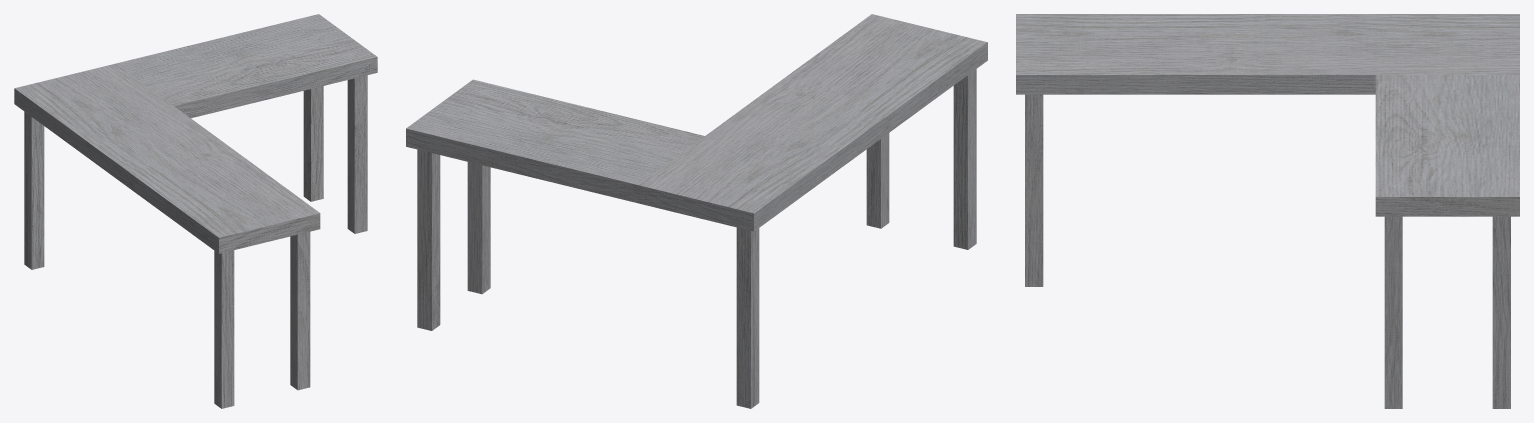
Rendered from table_L.glb.
3 renders of one model, left to right at view 1: azimuth 30°, elevation 25°; view 2: azimuth 150°, elevation 25°; view 3: azimuth 270°, elevation 25°, orthographic. The views are drawn at different scales.
Visible parts, largest first — view 1: Desk; view 2: Desk; view 3: Desk.
Boxes of the visible parts, x1,y1,x2,y2 form: Desk: (14, 14, 377, 408); Desk: (406, 14, 987, 408); Desk: (1016, 14, 1519, 408).
Bounding box in the file's own units: 1.2 × 0.66 × 1.4.
Materials: 1 (1 with a texture image).
